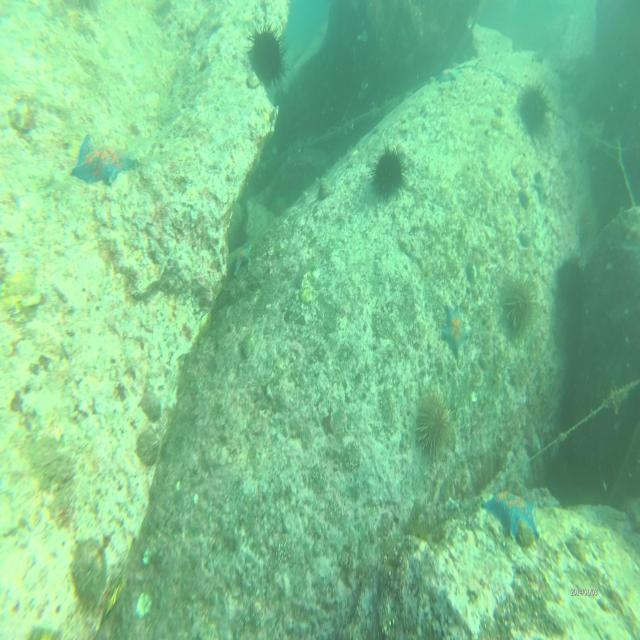echinus: (417, 389, 455, 457), (501, 272, 537, 334), (250, 28, 284, 88), (519, 83, 550, 135), (375, 146, 404, 199), (558, 258, 587, 309)
starfish: (72, 133, 140, 188), (483, 484, 540, 542), (441, 306, 472, 356), (227, 237, 253, 276), (436, 62, 462, 86)
